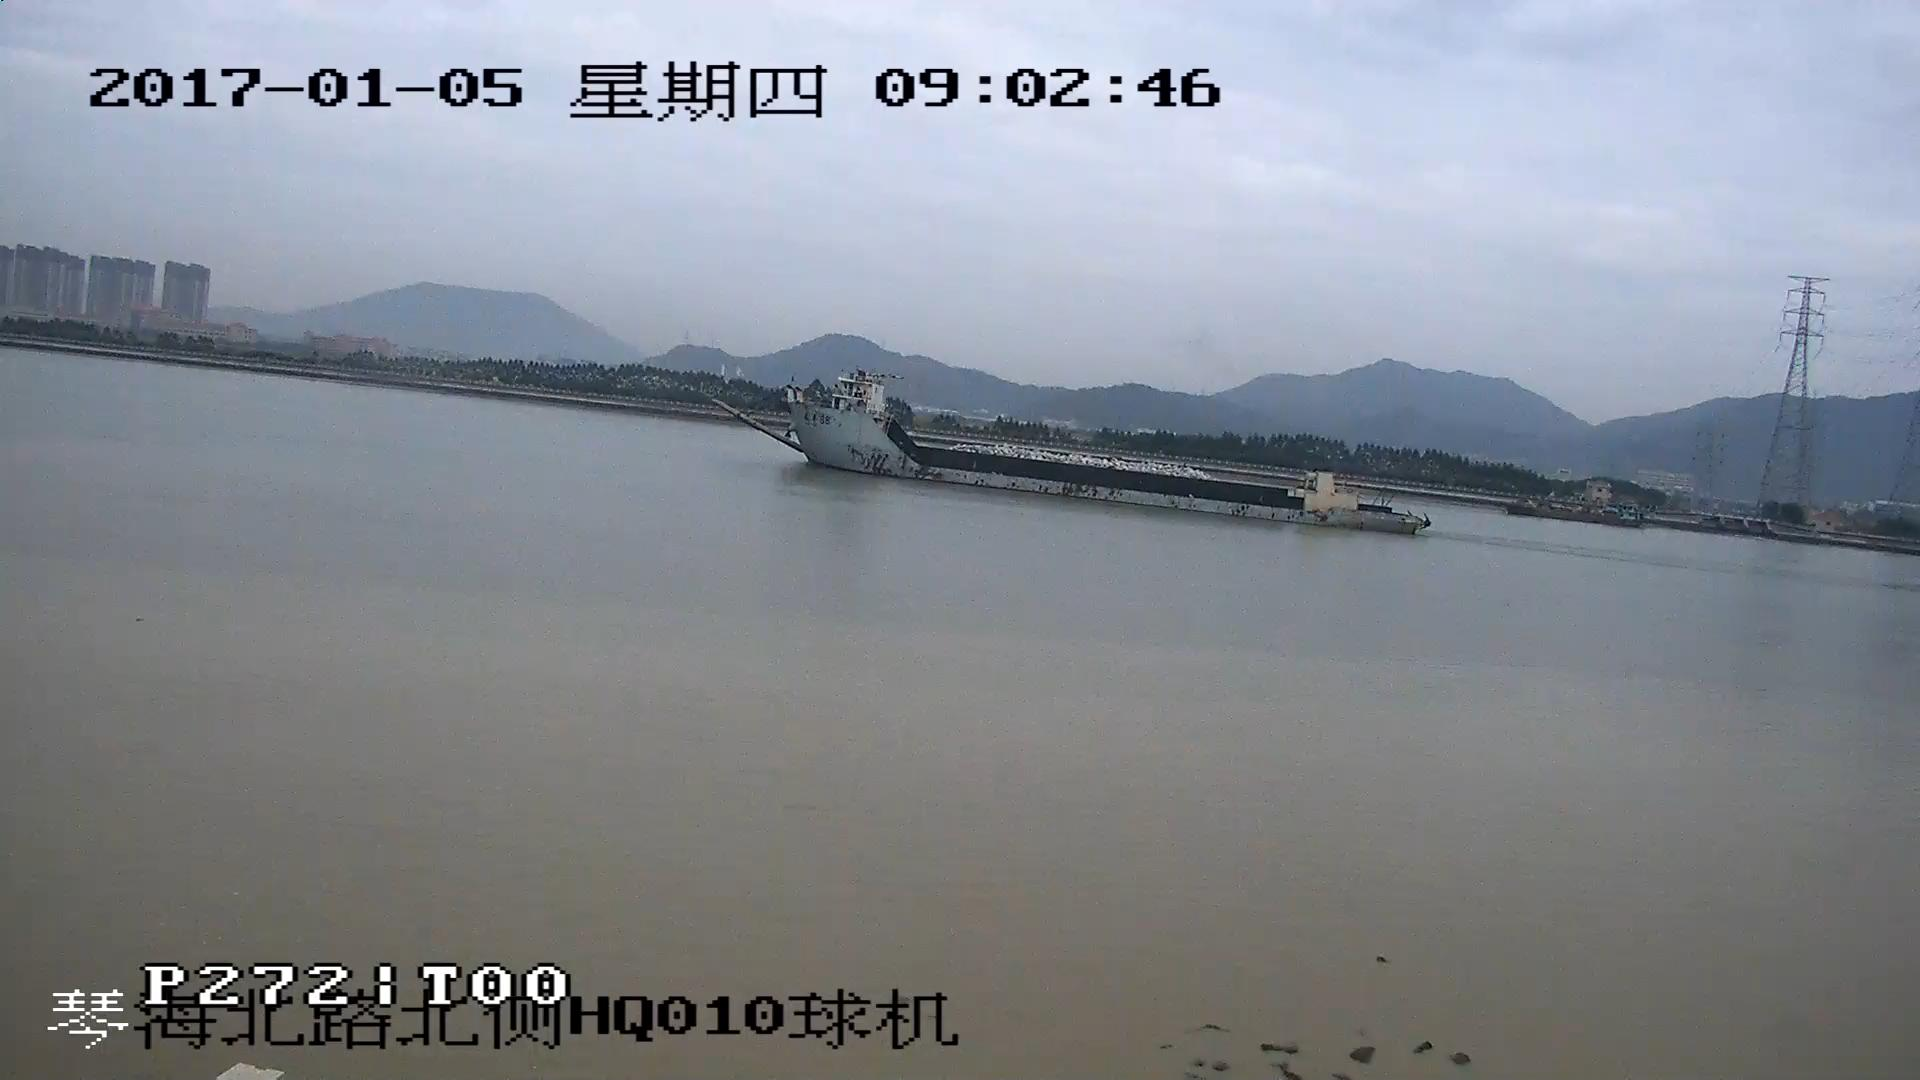bulk cargo carrier: (706, 372, 1416, 538)
